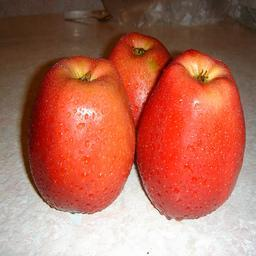apple: (134, 41, 244, 218), (24, 52, 137, 215), (111, 33, 173, 128)
